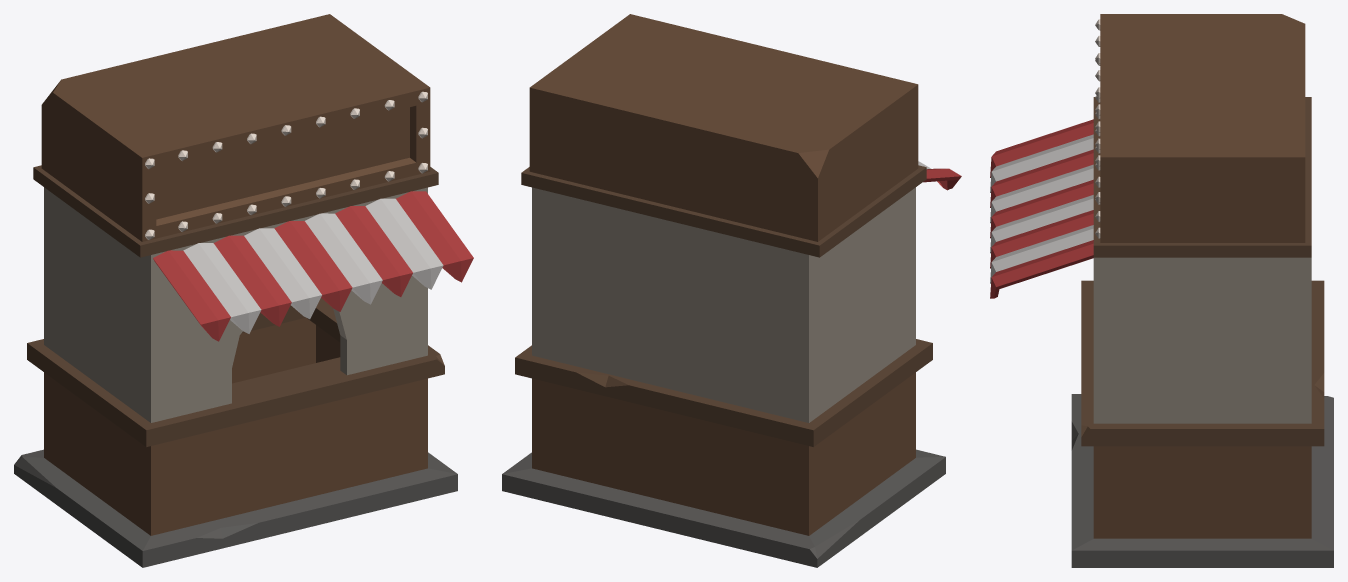
File: SM_Bldg_City_AmusementPark_TicketCounter.fbx
The picture shows the model from 3 angles, left to right: view 1: azimuth 30°, elevation 25°; view 2: azimuth 150°, elevation 25°; view 3: azimuth 270°, elevation 25°; orthographic projection.
Parts seen in each view (by area): view 1: SM_Bldg_City_AmusementPark_TicketCounter; view 2: SM_Bldg_City_AmusementPark_TicketCounter; view 3: SM_Bldg_City_AmusementPark_TicketCounter.
Boxes of the visible parts, bbox=[...] form: SM_Bldg_City_AmusementPark_TicketCounter: bbox=[14, 14, 473, 567]; SM_Bldg_City_AmusementPark_TicketCounter: bbox=[502, 14, 961, 567]; SM_Bldg_City_AmusementPark_TicketCounter: bbox=[990, 14, 1333, 567].
Bounding box in the file's own units: 275 × 330 × 255.
